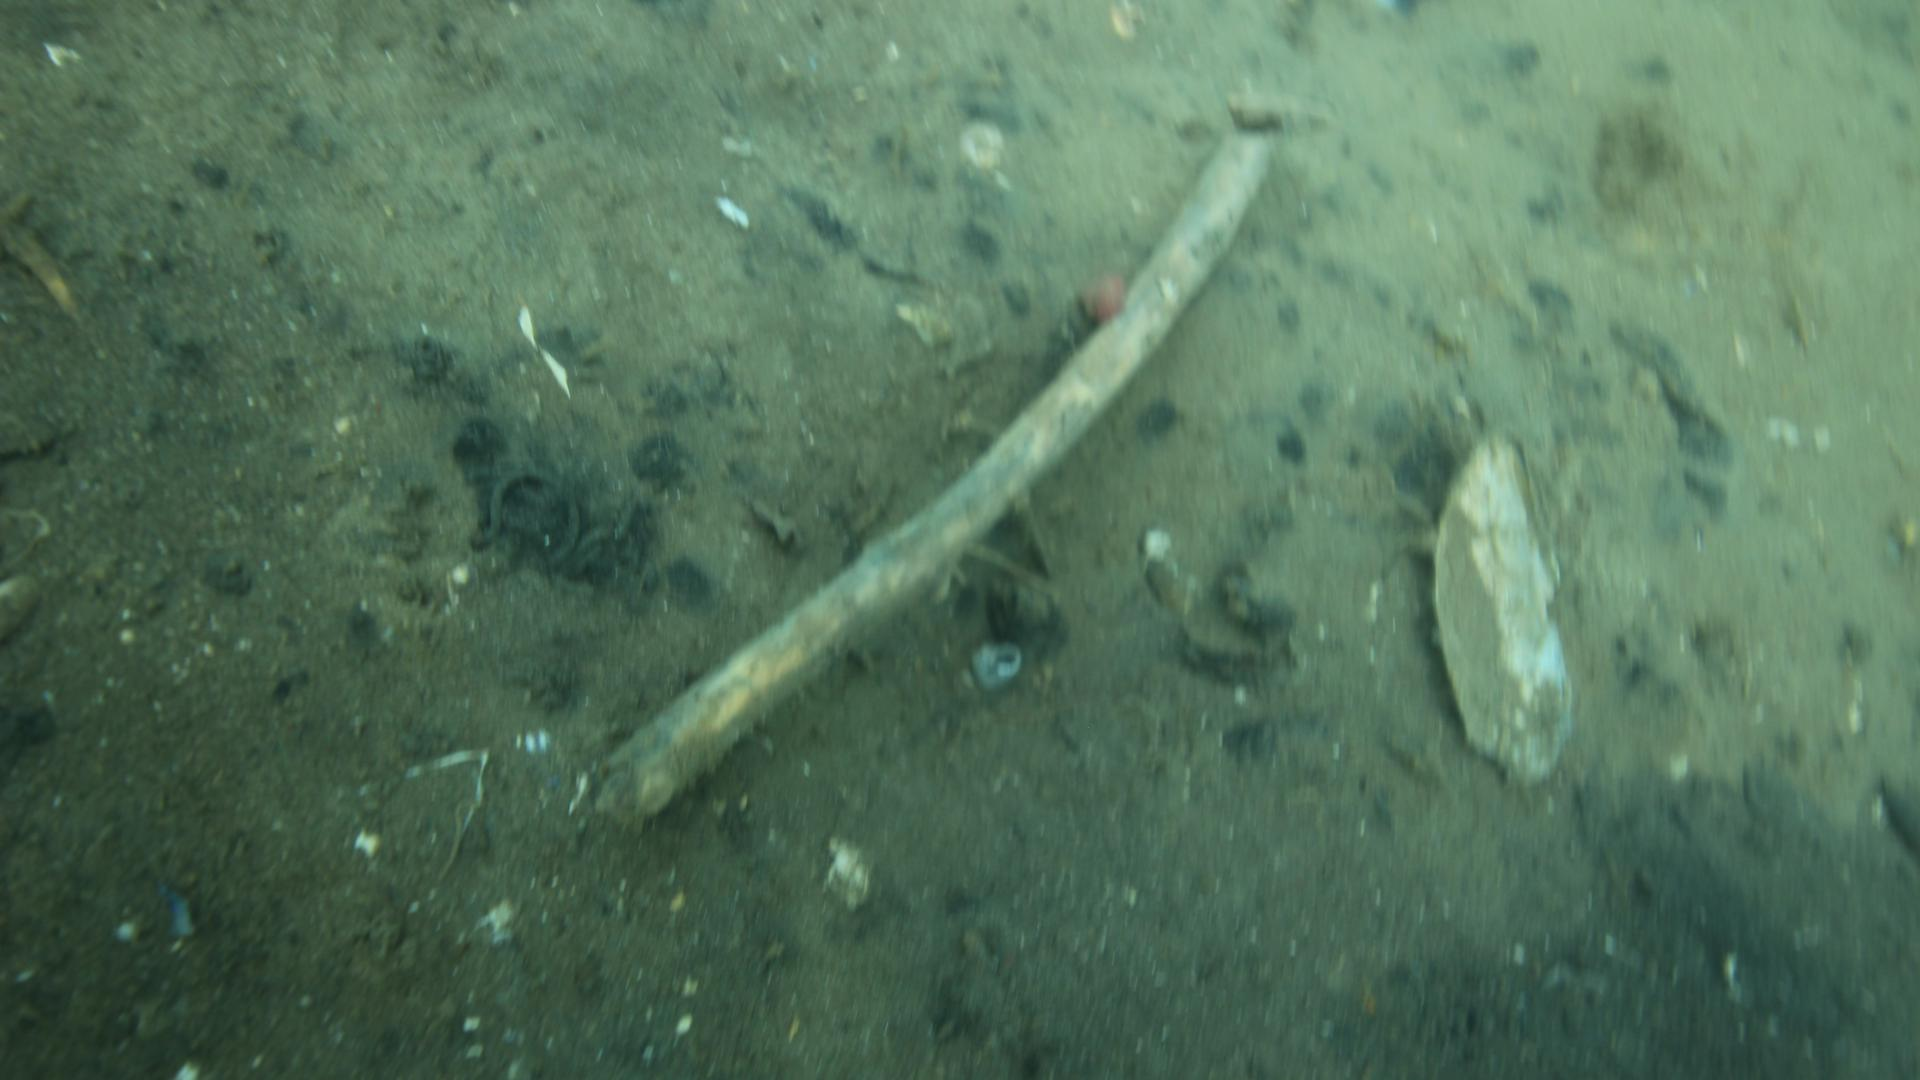wood: (607, 136, 1269, 799)
